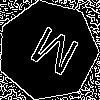M: (23, 25, 82, 85)
